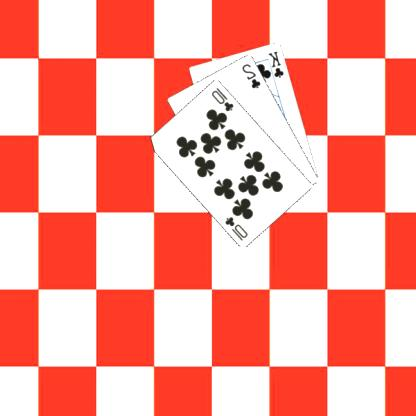10C: (210, 84, 237, 113), (224, 213, 251, 242)
2C: (241, 60, 264, 90)
KC: (266, 48, 287, 84)
